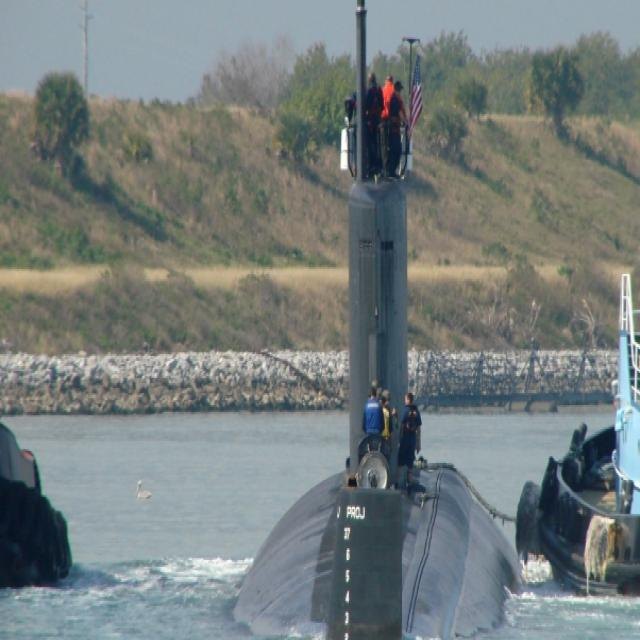submarine: (224, 1, 531, 640)
